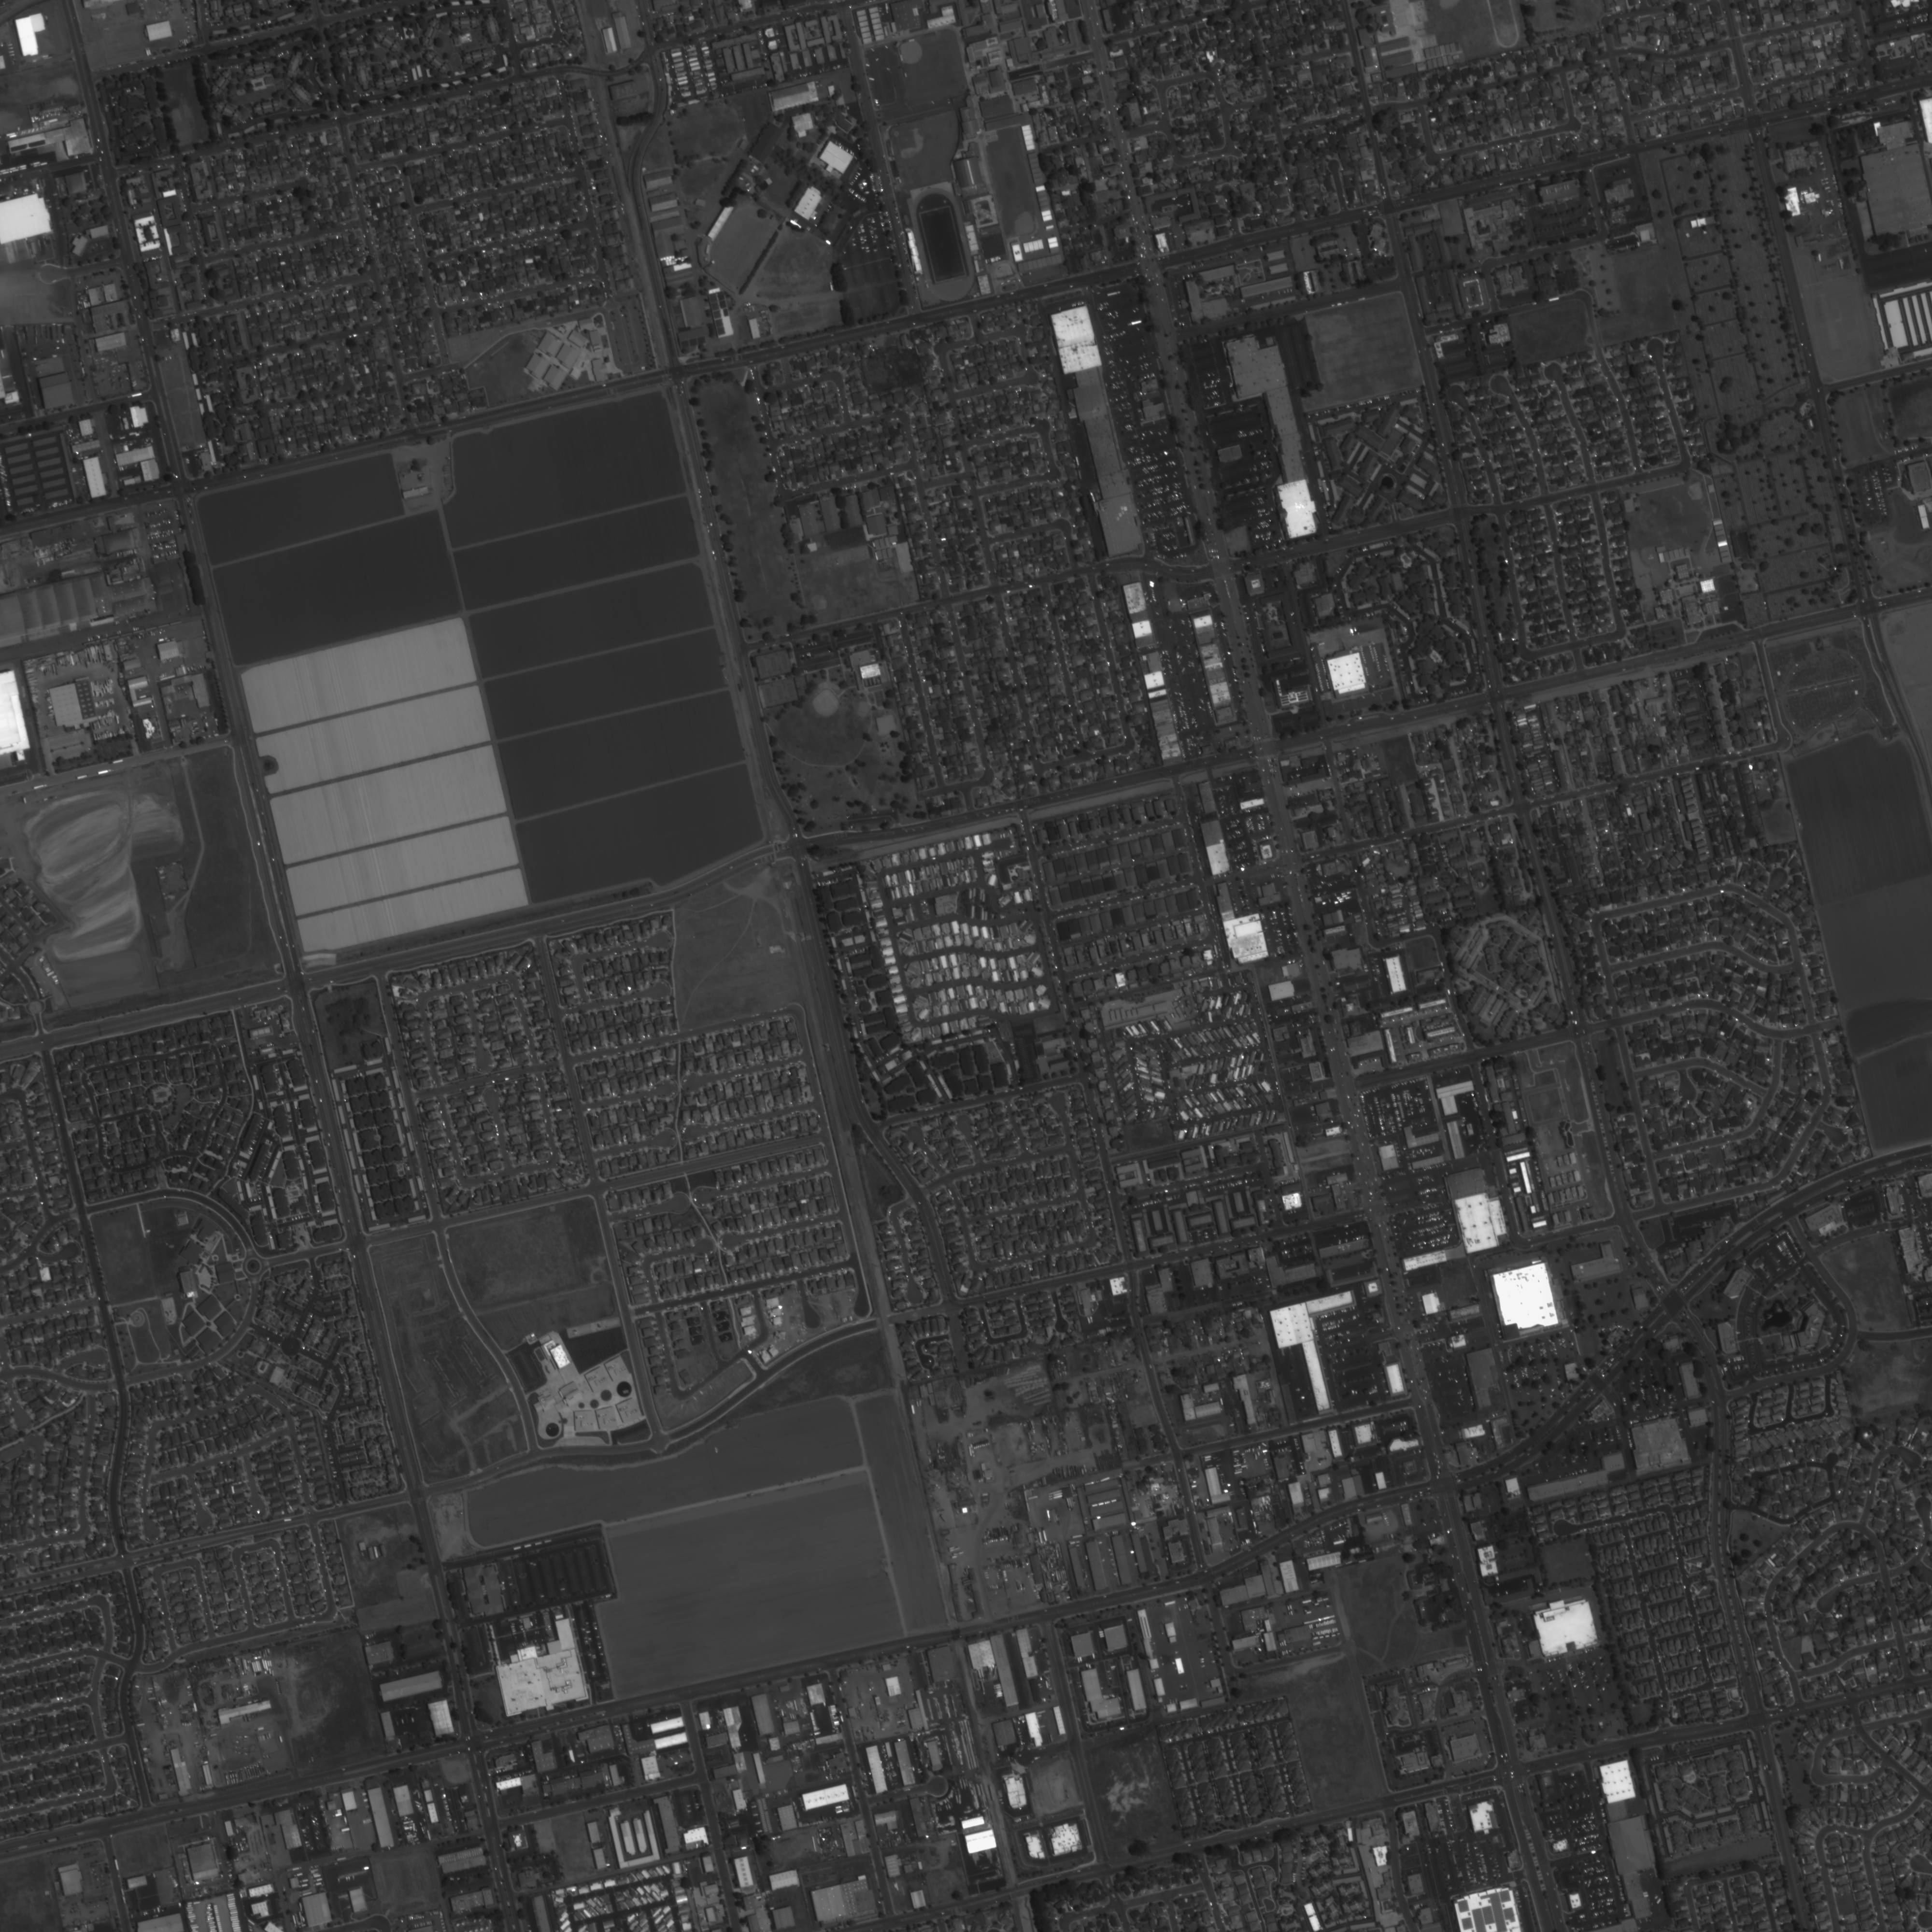baseball diamond: (888, 120, 931, 166), (803, 685, 849, 724), (435, 1753, 472, 1789), (895, 35, 931, 69), (1007, 203, 1039, 239), (805, 586, 835, 612)
ground track field: (901, 180, 982, 310), (1484, 2, 1525, 53)
roundabout: (242, 1256, 264, 1277)
